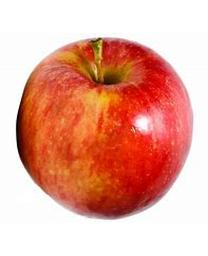apple: (15, 37, 192, 219)
